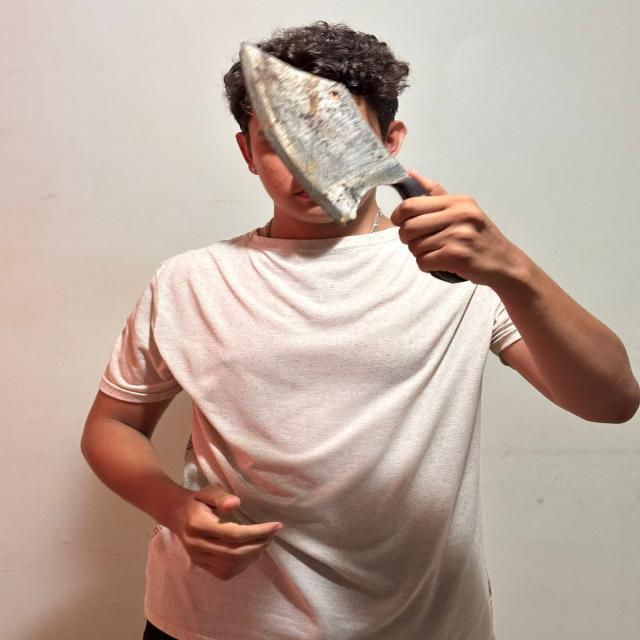knife: (242, 44, 398, 226)
